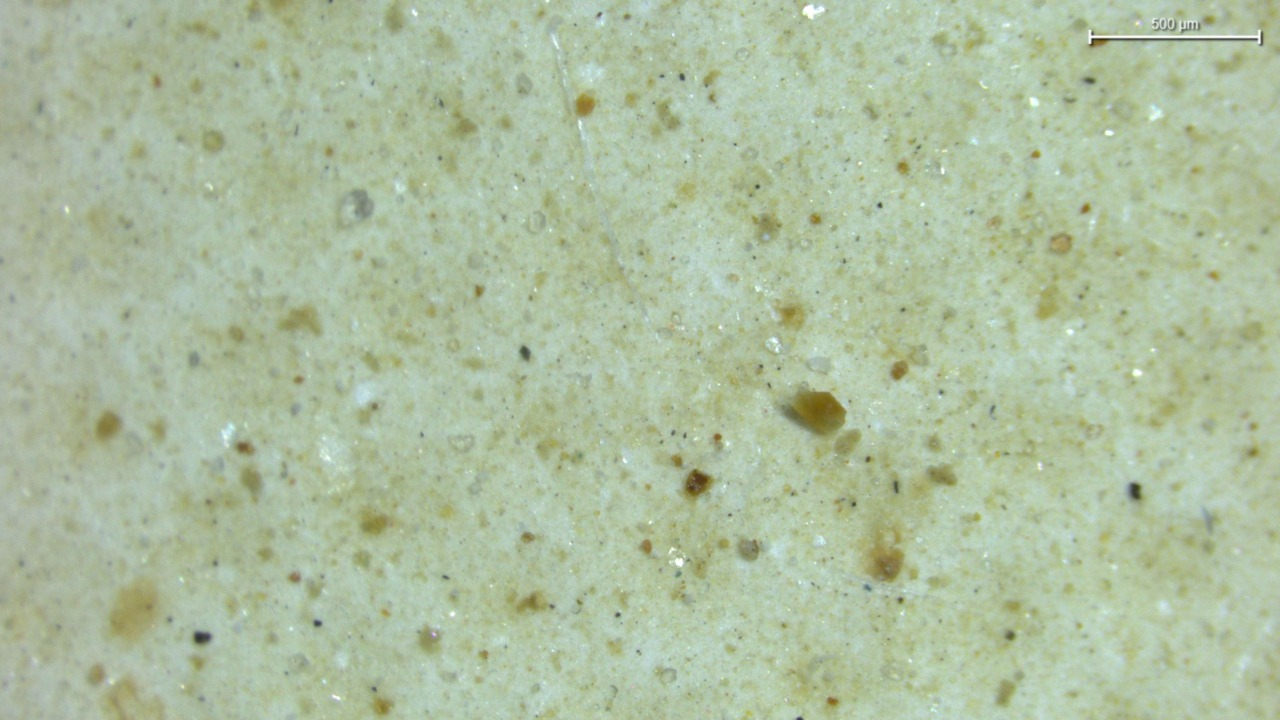microplastic_fragment: (792, 392, 846, 433), (339, 189, 374, 225)
